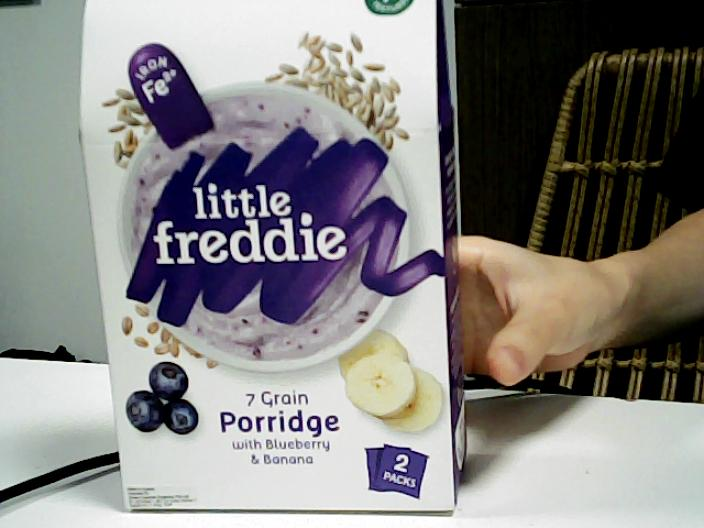Babyfood_100-199g_NonHalal_NonHealthy: (110, 1, 446, 511)
